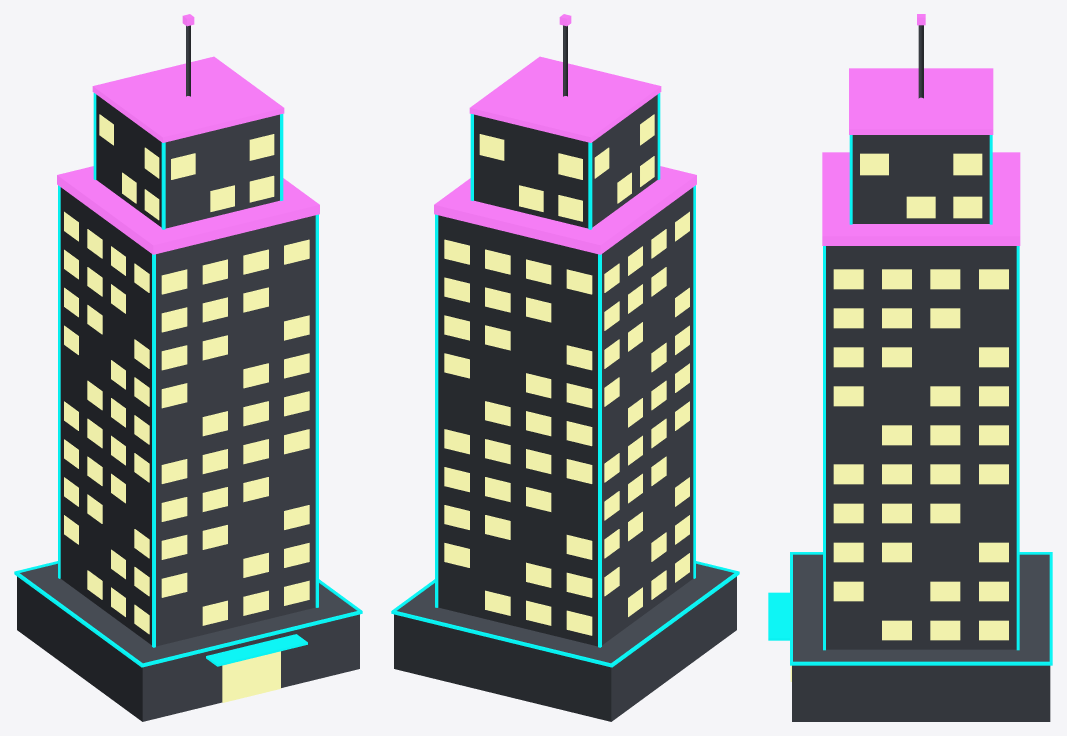
File: building-quiz.glb
The picture shows the model from 3 angles, left to right: view 1: azimuth 30°, elevation 25°; view 2: azimuth 150°, elevation 25°; view 3: azimuth 270°, elevation 25°; orthographic projection. The views are drawn at different scales.
Size of the model in its own units: 12.2 by 33.4 by 13.2.
